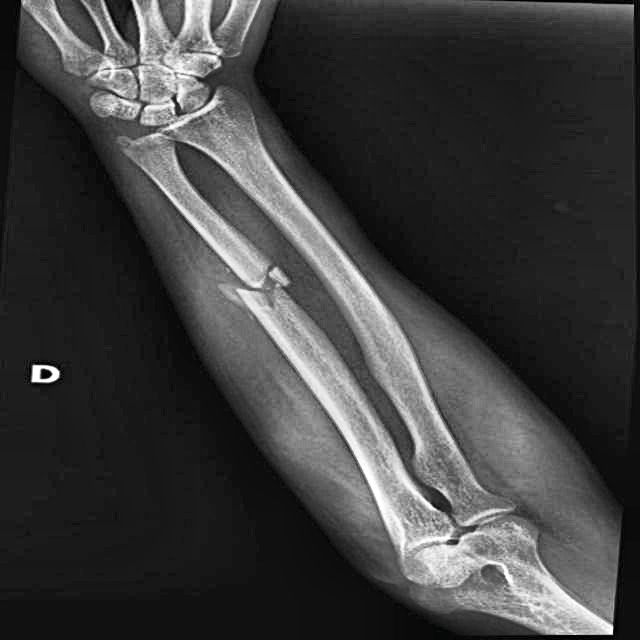Comminuted: (182, 245, 320, 323)
